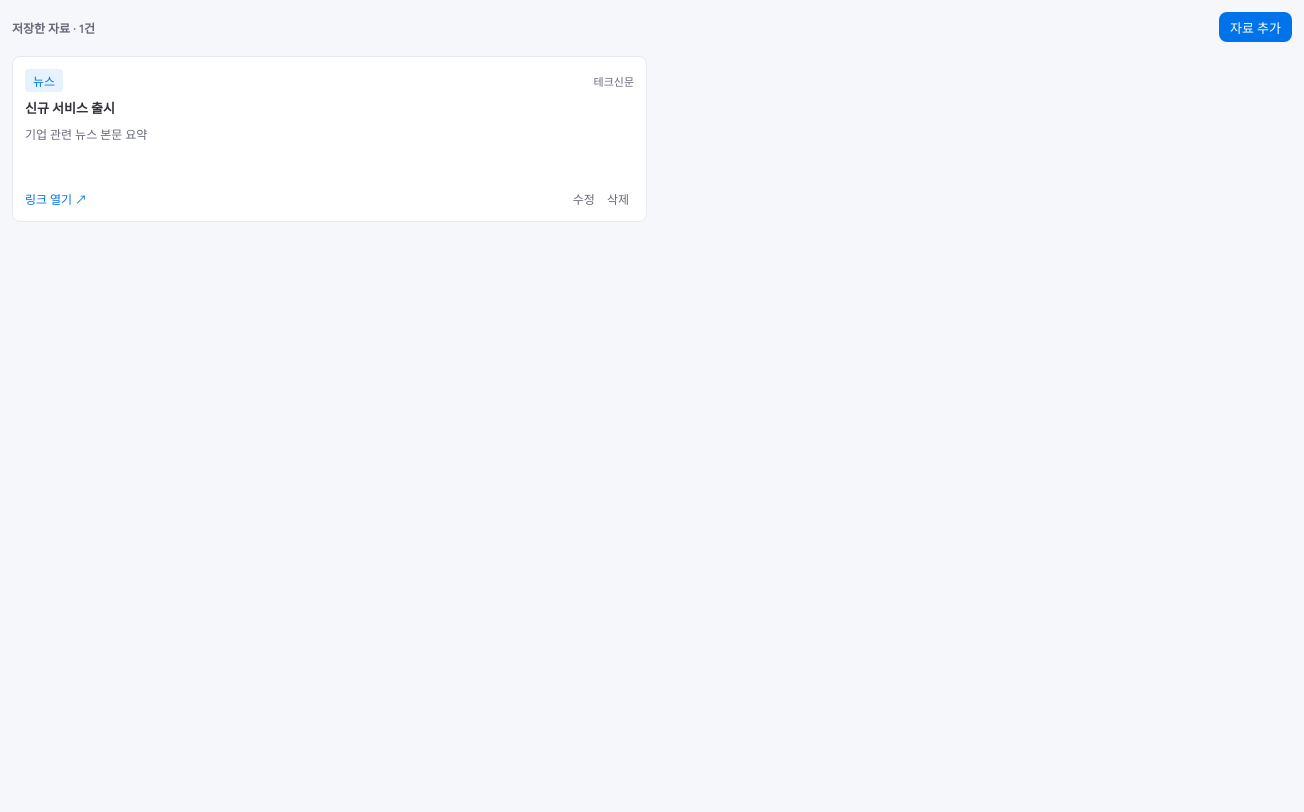
Test: CompanyContentAlbum › 자료 내용을 더블클릭하면 수정 폼을 연다
The width and height of the screenshot is (1304, 812).
Double-click the text with class "content-card__preview" at [86, 135], box [25,128,147,142]
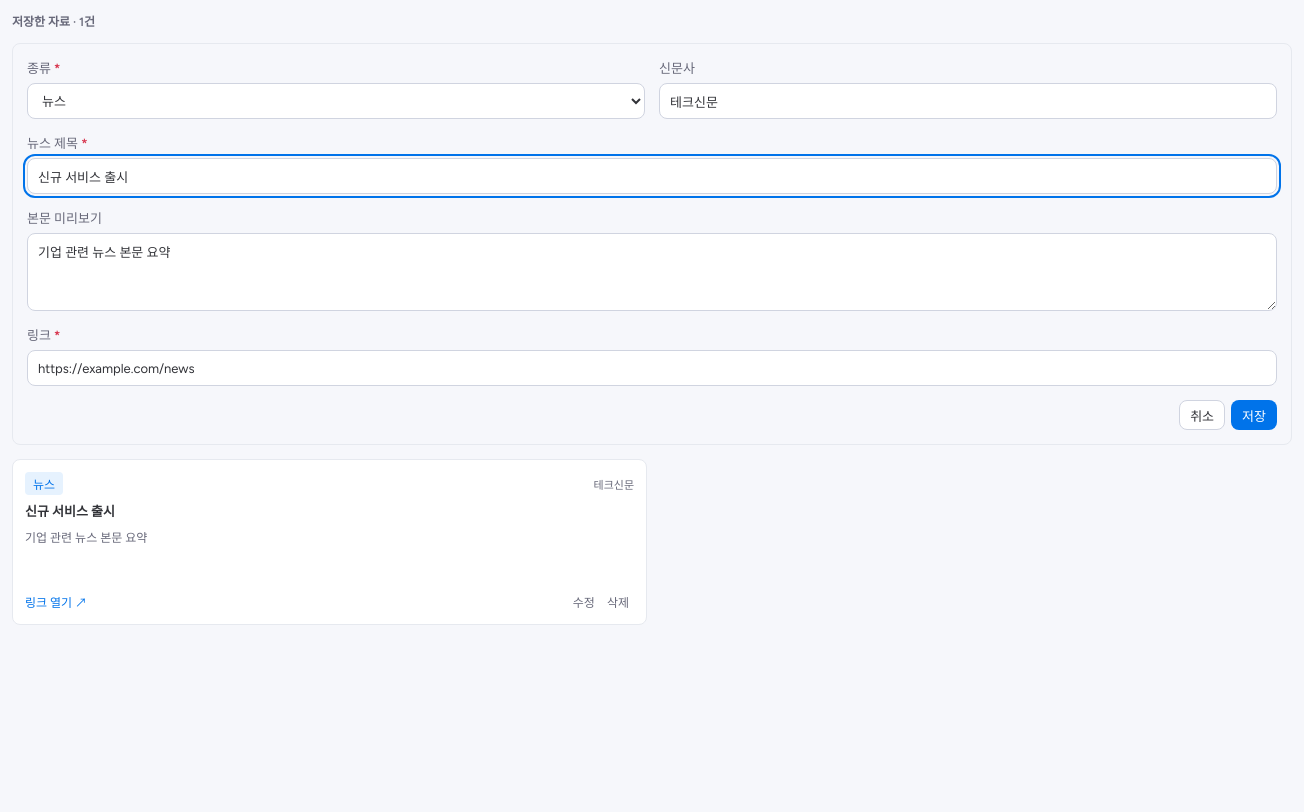
Now the field labelled "뉴스 제목 *" holds "신규 서비스 출시", box [27,158,1277,194]
